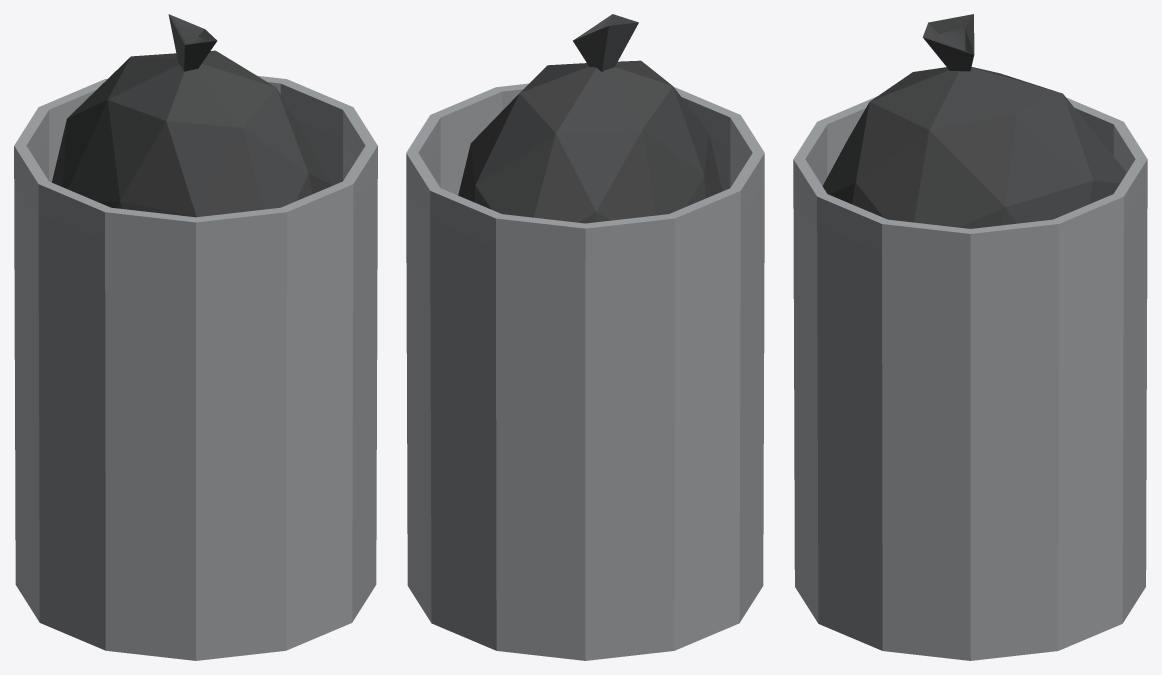
Rendered from SM_garbagecan_metal_trash.fbx.
3 renders of one model, left to right at view 1: azimuth 30°, elevation 25°; view 2: azimuth 150°, elevation 25°; view 3: azimuth 270°, elevation 25°, orthographic. The views are drawn at different scales.
Visible parts, largest first — view 1: Line028; view 2: Line028; view 3: Line028.
Part boxes in pixels (x1,y1,x2,y2): Line028: (14,14,377,660); Line028: (406,14,764,660); Line028: (793,14,1147,660).
Size of the model in its own units: 23.76 by 23.76 by 41.5.
